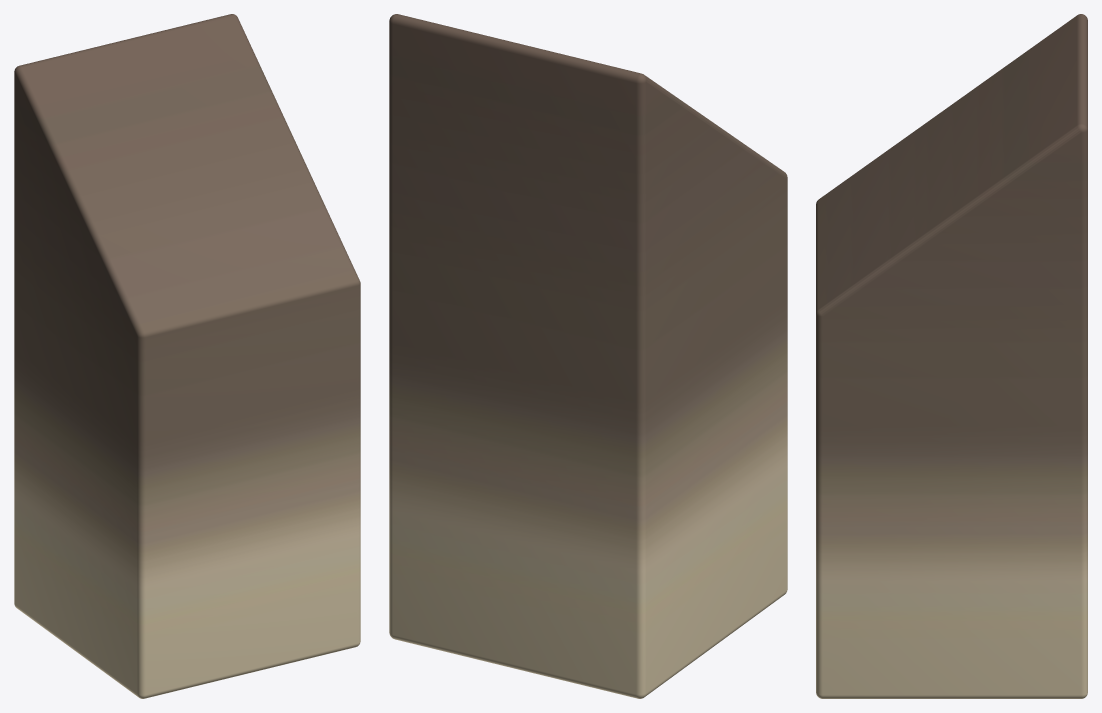
Rendered from monolith_dama_cerny.glb.
The picture shows the model from 3 angles, left to right: view 1: azimuth 30°, elevation 25°; view 2: azimuth 150°, elevation 25°; view 3: azimuth 270°, elevation 25°; orthographic projection. The views are drawn at different scales.
Parts seen in each view (by area): view 1: MONOLITH Dáma – Kouř (černý); view 2: MONOLITH Dáma – Kouř (černý); view 3: MONOLITH Dáma – Kouř (černý).
Part boxes in pixels (x1,y1,x2,y2): MONOLITH Dáma – Kouř (černý): (14,14,360,698); MONOLITH Dáma – Kouř (černý): (389,14,787,698); MONOLITH Dáma – Kouř (černý): (816,14,1087,698).
Size of the model in its own units: 0.028 by 0.0653 by 0.028.
Materials: 1 (1 with a texture image).
